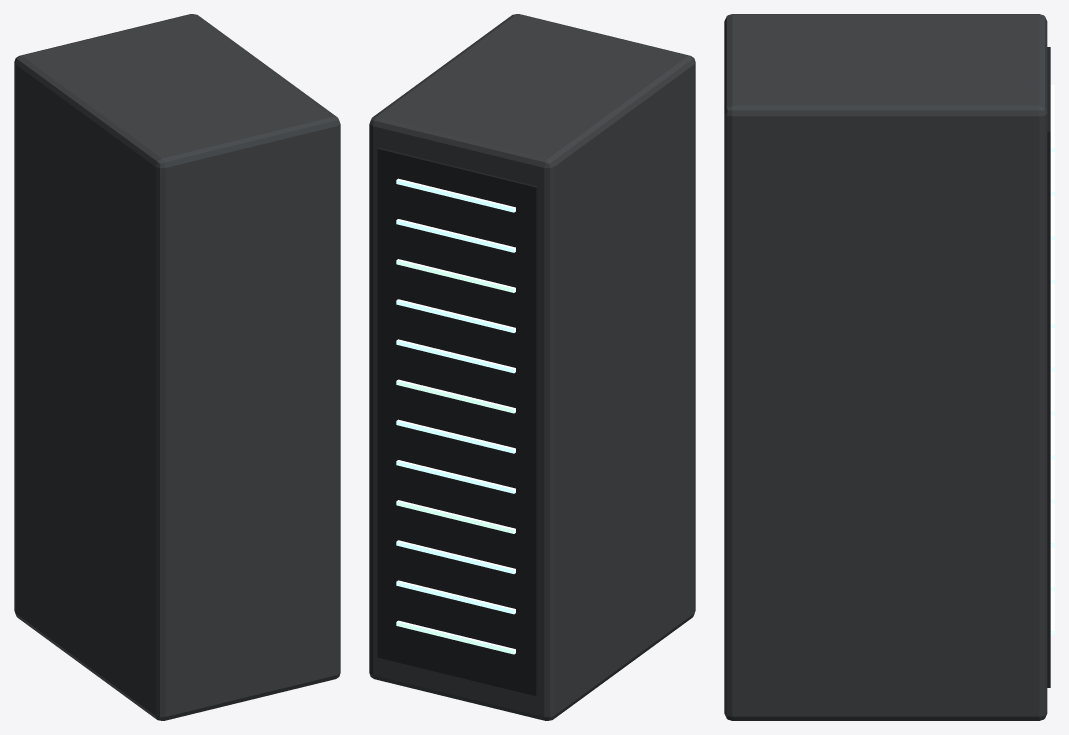
The model's file is server_rack.glb.
3 renders of one model, left to right at view 1: azimuth 30°, elevation 25°; view 2: azimuth 150°, elevation 25°; view 3: azimuth 270°, elevation 25°, orthographic. The views are drawn at different scales.
Visible parts, largest first — view 1: server_rack; view 2: server_rack; view 3: server_rack.
Boxes of the visible parts, bbox=[...] form: server_rack: bbox=[14, 14, 340, 720]; server_rack: bbox=[369, 14, 695, 720]; server_rack: bbox=[724, 14, 1054, 720].
Size of the model in its own units: 0.72 by 2.1 by 1.02.
